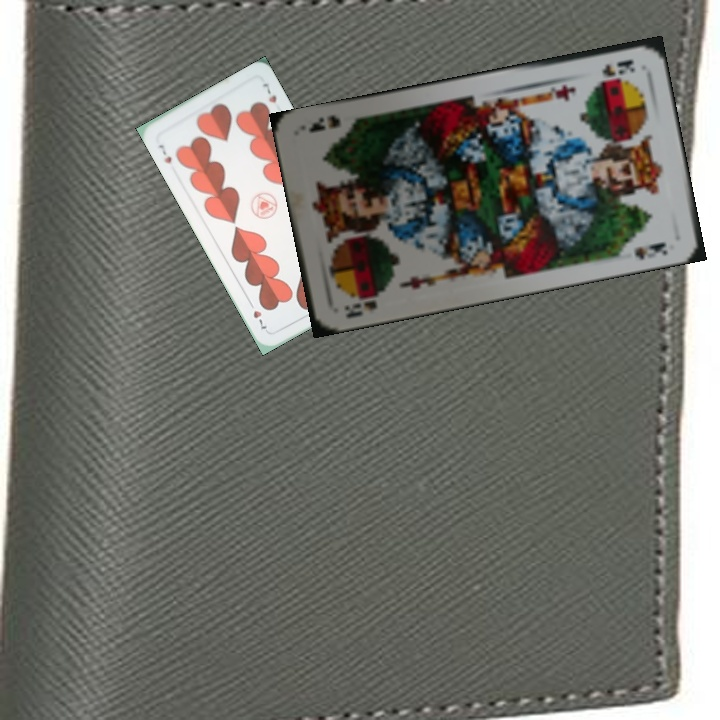H7: (154, 140, 174, 166)
SK: (339, 287, 390, 321), (598, 55, 638, 79)
